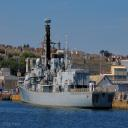Fragata: (18, 18, 117, 112)
